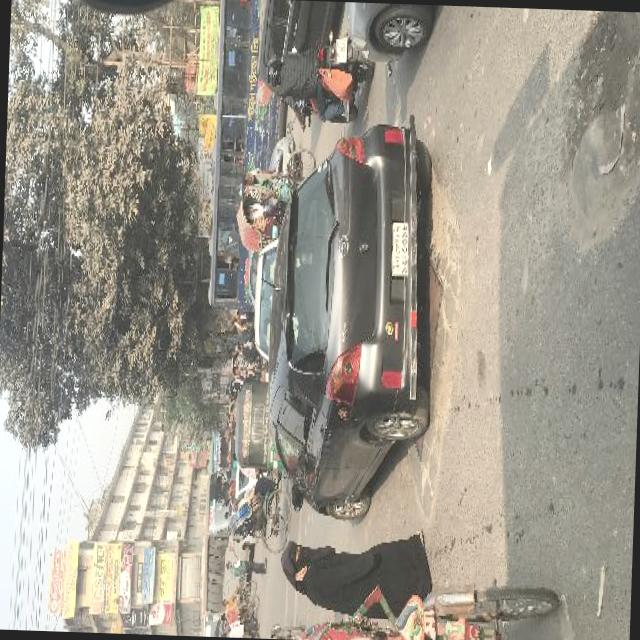bus: (206, 2, 285, 315), (200, 466, 252, 618), (207, 426, 234, 475)
car: (263, 110, 436, 524), (256, 0, 334, 98), (250, 236, 280, 361)
motorcycle: (297, 573, 562, 640), (262, 28, 376, 137), (233, 145, 315, 254), (232, 379, 292, 472), (227, 470, 290, 556), (220, 594, 258, 636), (229, 351, 267, 380), (232, 310, 254, 330), (226, 400, 238, 422), (226, 379, 236, 397)
